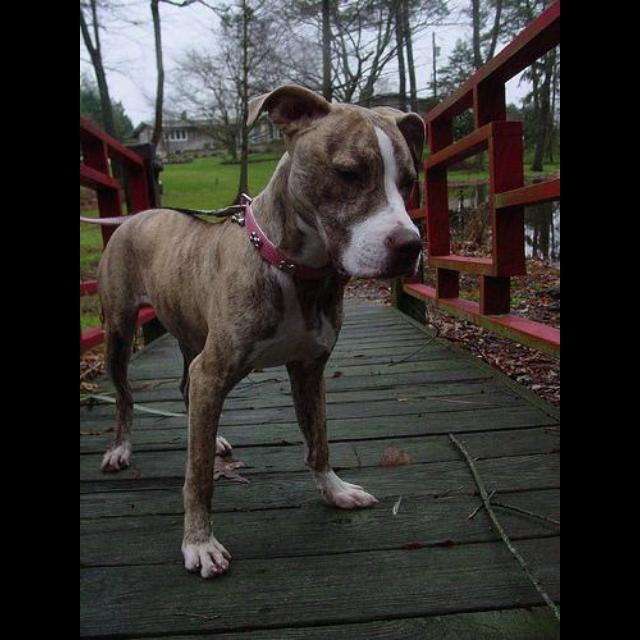amstaff: (96, 83, 427, 579)
